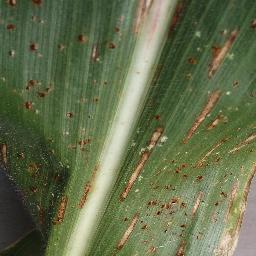Gray_Leaf_Spot: (166, 150, 256, 255), (119, 113, 166, 256), (0, 134, 62, 224), (63, 129, 100, 211), (181, 90, 226, 152), (129, 0, 192, 41), (205, 25, 241, 81), (17, 75, 56, 113), (106, 13, 123, 54), (226, 129, 256, 150), (147, 62, 167, 89), (7, 0, 47, 9), (90, 38, 102, 64), (69, 28, 88, 44), (90, 76, 110, 88), (76, 97, 102, 106), (30, 10, 44, 26), (30, 40, 46, 53), (185, 53, 198, 69), (4, 18, 17, 32), (247, 15, 256, 35), (3, 47, 16, 58), (56, 40, 65, 55), (230, 80, 243, 88), (64, 109, 73, 119)
